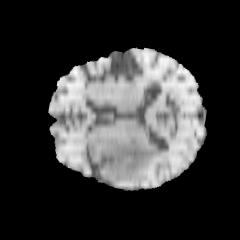glioma: (98, 135, 162, 180)
